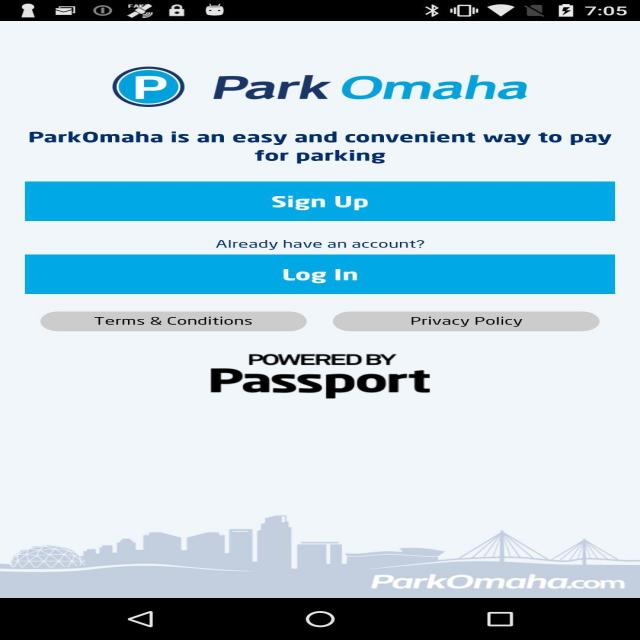button: (25, 238, 640, 300), (14, 177, 621, 232), (56, 307, 608, 337)
icon: (18, 504, 640, 593)
text: (27, 53, 621, 170), (159, 345, 492, 404)
